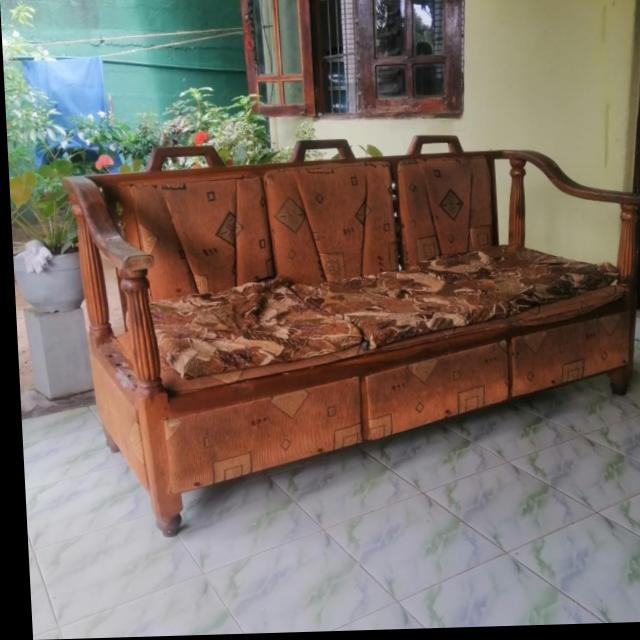Sofa: (55, 133, 640, 541)
